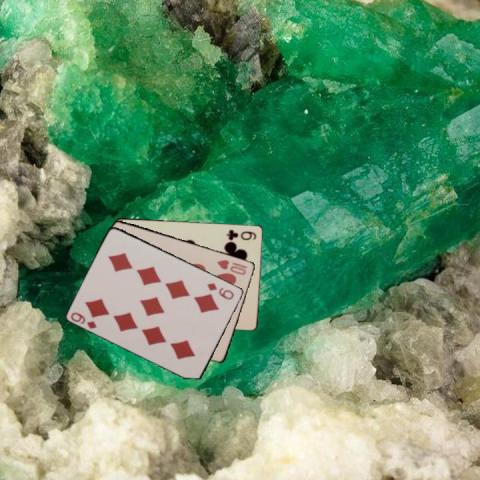10h: (214, 257, 248, 276)
6c: (224, 226, 257, 241)
9d: (205, 279, 235, 301), (68, 309, 99, 330)
